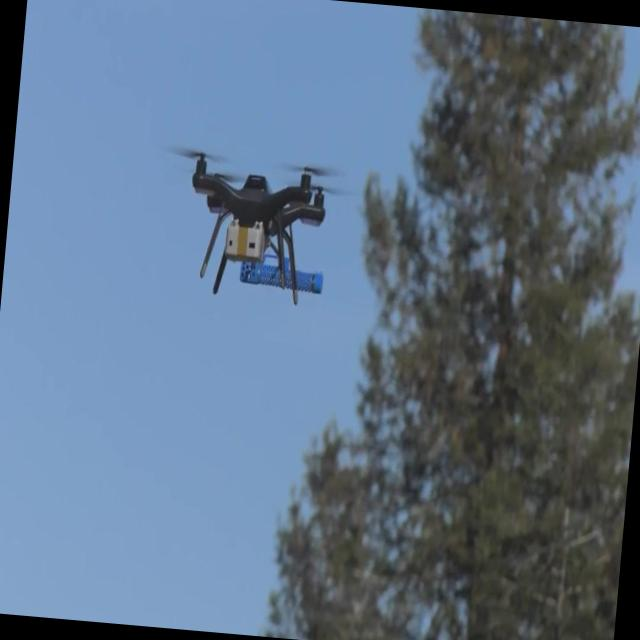drone: (180, 148, 338, 308)
